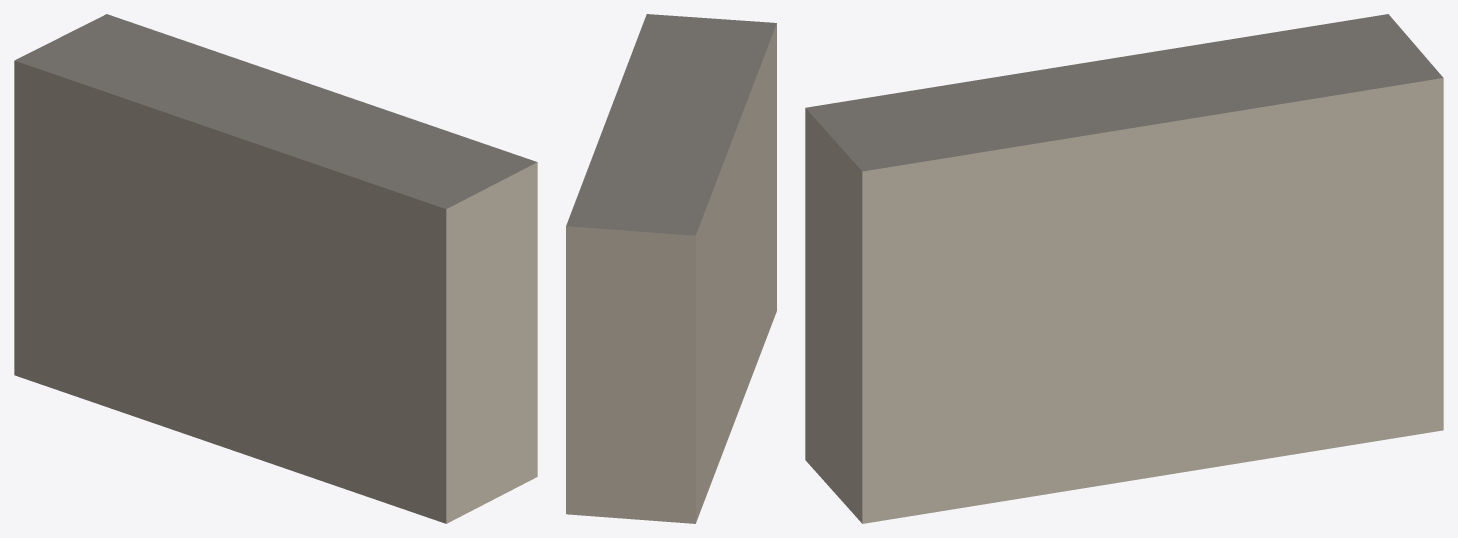
3 renders of one model, left to right at view 1: azimuth 30°, elevation 25°; view 2: azimuth 150°, elevation 25°; view 3: azimuth 270°, elevation 25°, orthographic. The views are drawn at different scales.
Parts seen in each view (by area): view 1: HP-w446934337; view 2: HP-w446934337; view 3: HP-w446934337.
Part boxes in pixels (x1,y1,x2,y2): HP-w446934337: (14,14,537,523); HP-w446934337: (566,14,776,523); HP-w446934337: (805,14,1443,523).
Bounding box in the file's own units: 17.26 × 18 × 29.54.
